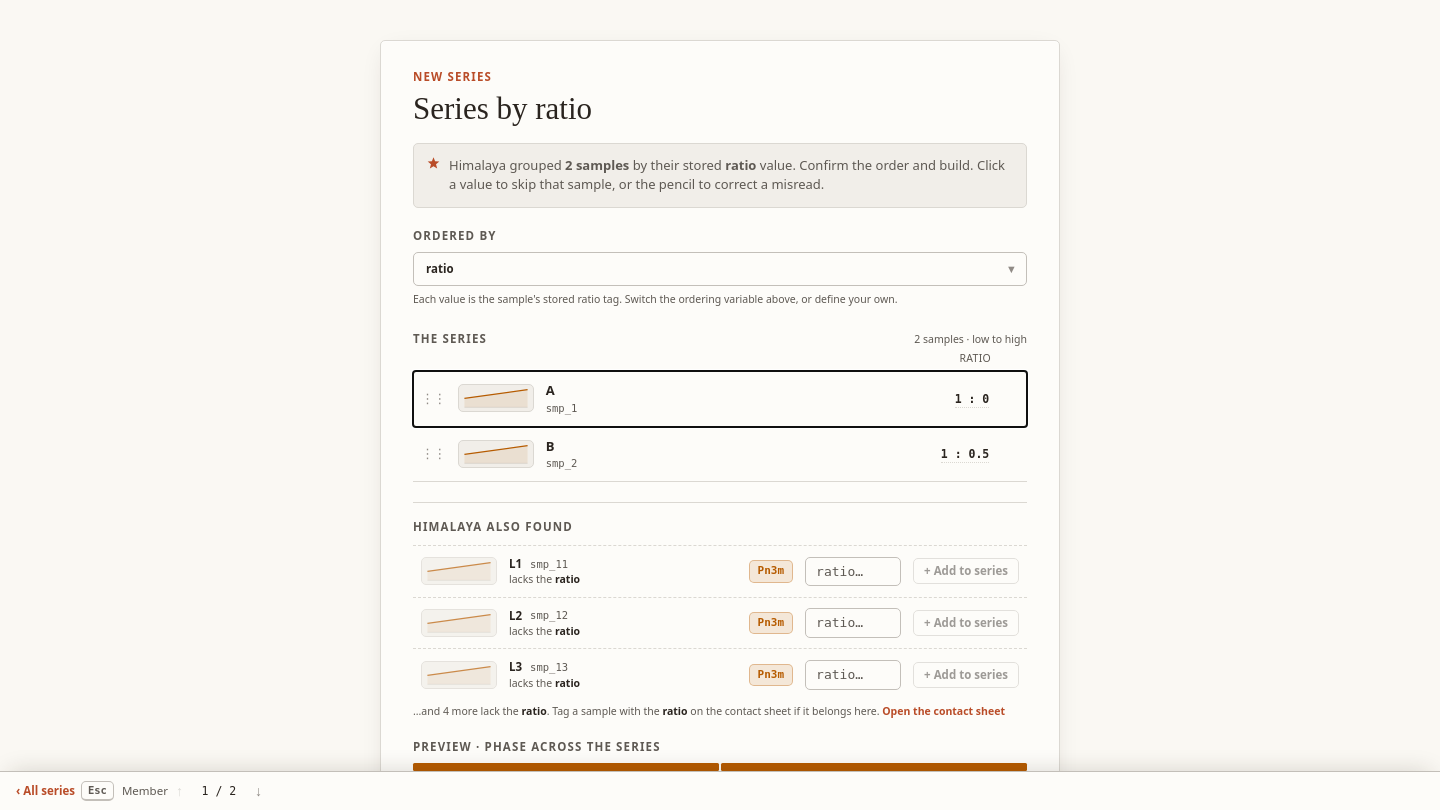
Scenario: SeriesScopingPage › loose candidates are actionable (SCOPE-LOOSEADD) › ⌘Z removes a freshly added candidate, returning it to the loose list
Type "9" into the field named "value for L1" at (853, 571), box [816, 562, 890, 581]
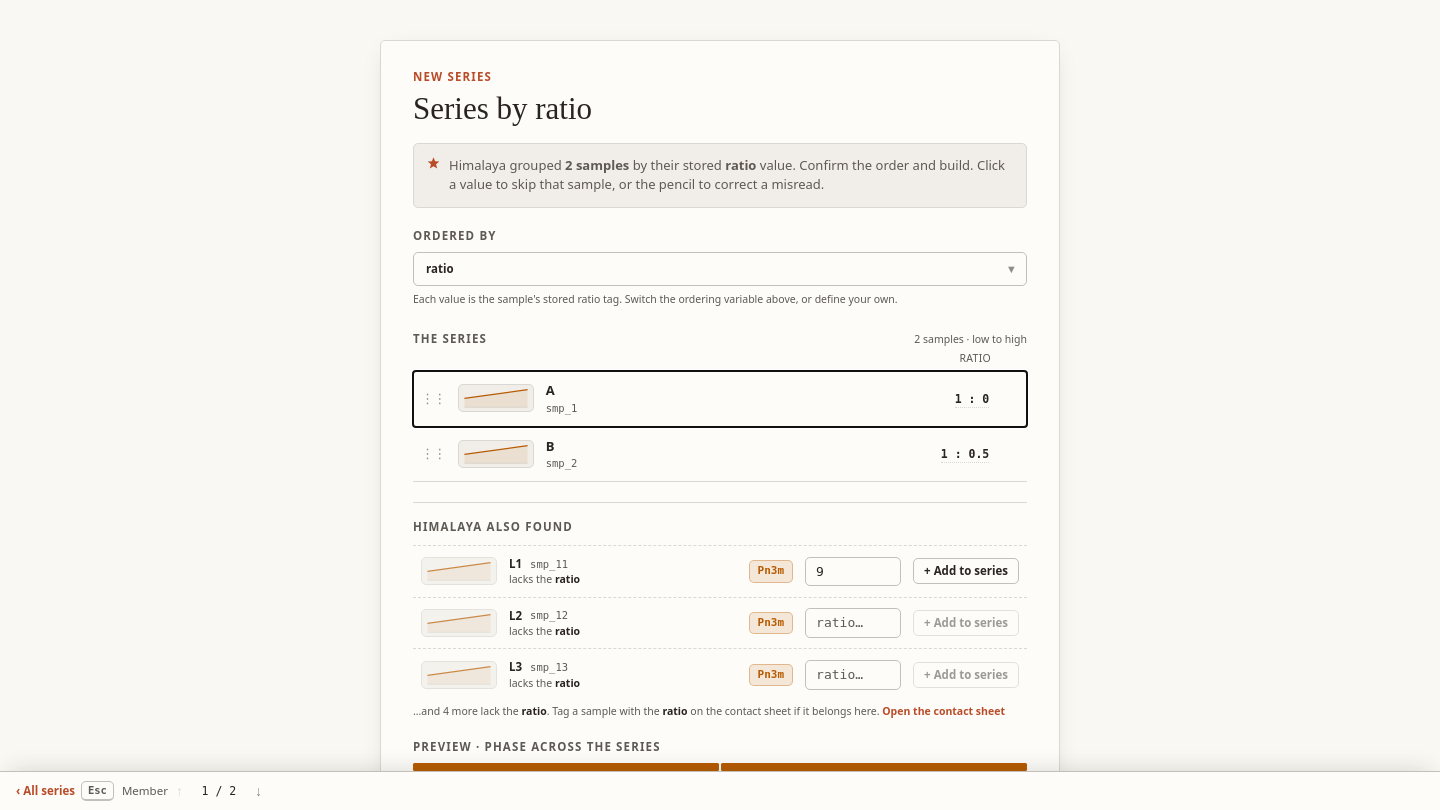
Click the button "+ Add to series" in the row of "11" at (966, 571), box [913, 558, 1019, 584]
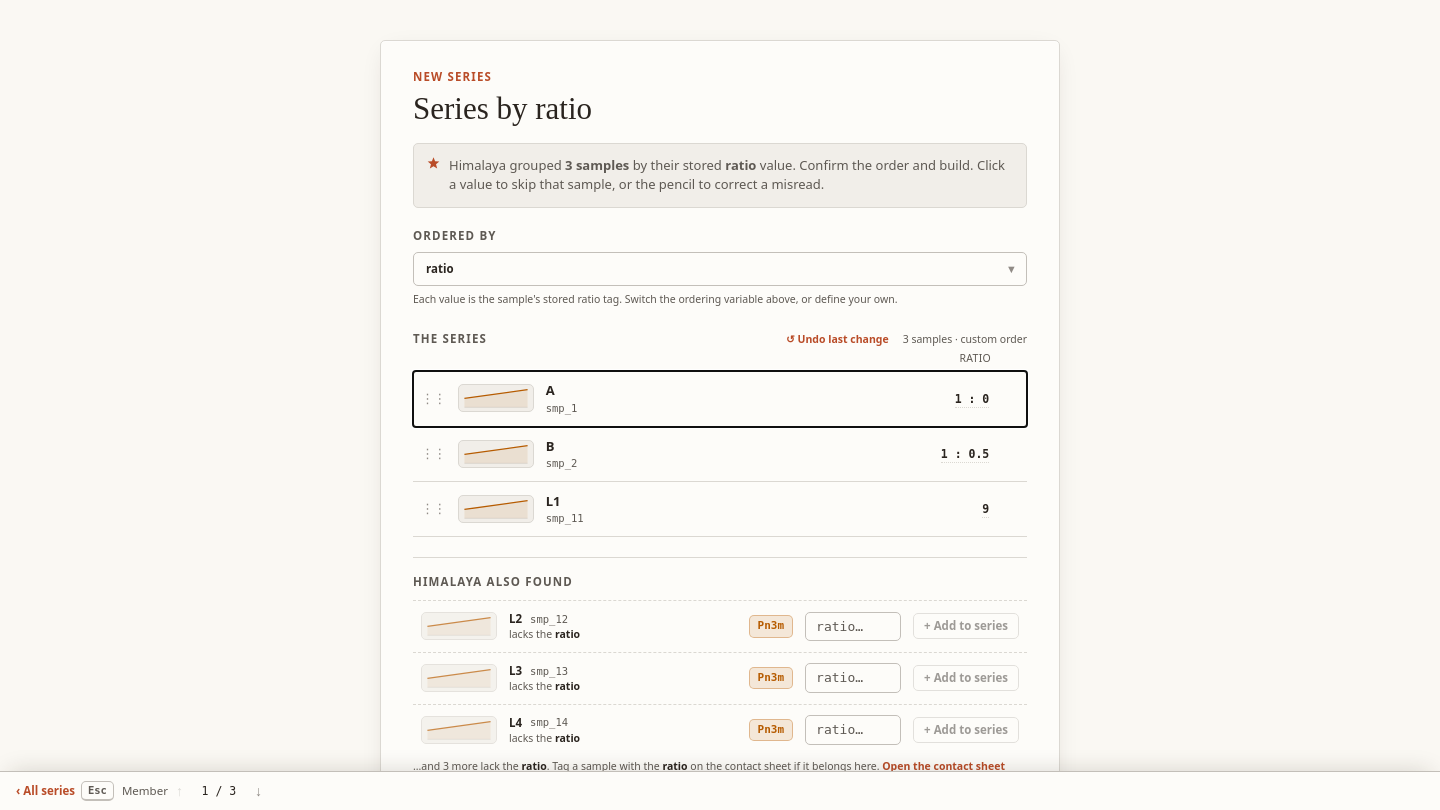
Check: the number of elements with test id "scope-sample-row" is 3, box [413, 371, 1027, 427]; [413, 427, 1027, 482]; [413, 482, 1027, 537]
Press z
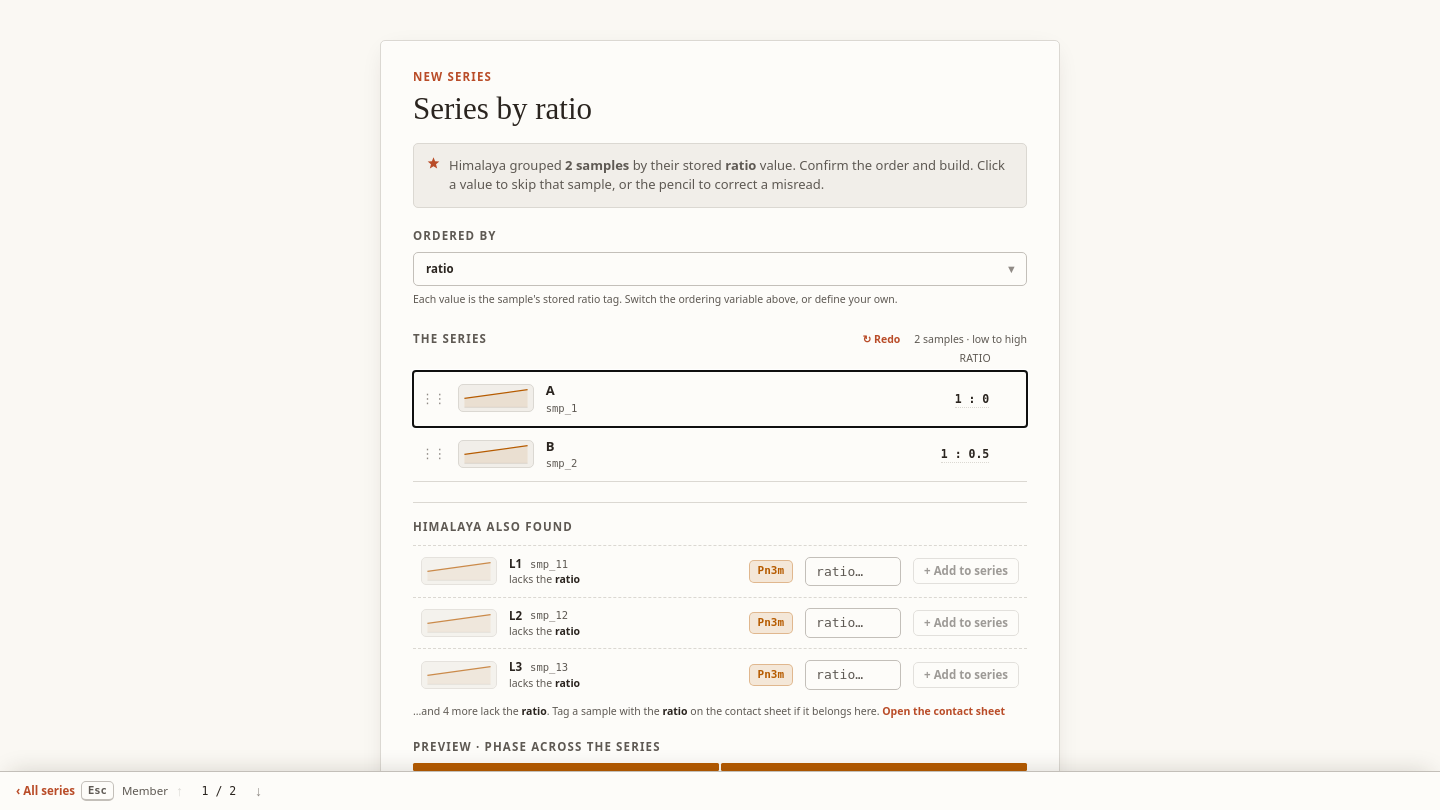
Check: the field named "value for L1" is shown, box [816, 562, 890, 581]
Check: the number of elements with test id "scope-sample-row" is 2, box [413, 371, 1027, 427]; [413, 427, 1027, 482]
